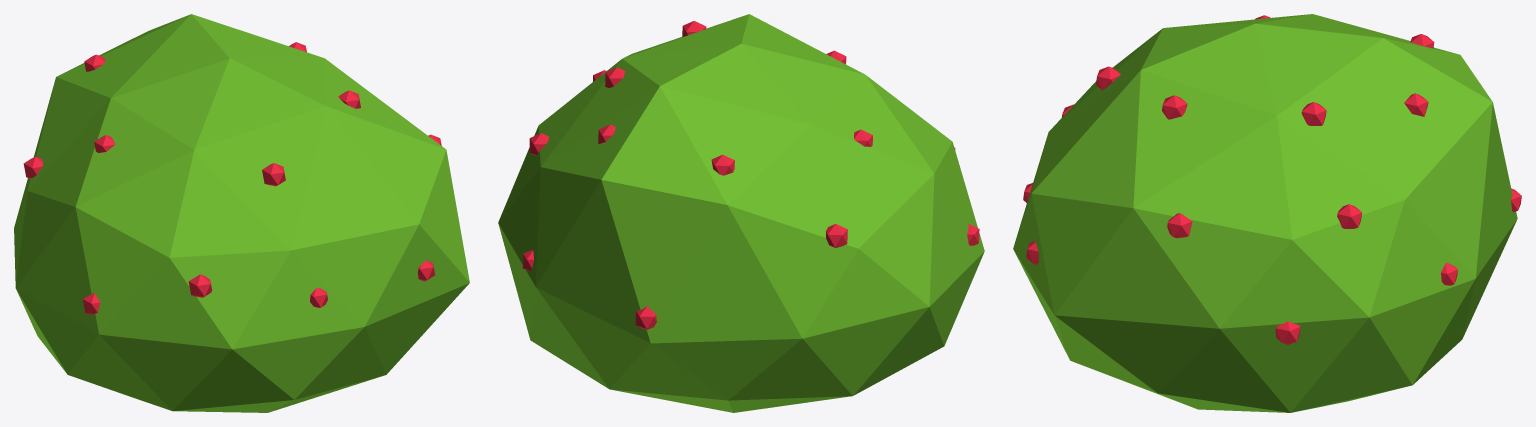
File: Куст№1.fbx
The picture shows the model from 3 angles, left to right: view 1: azimuth 30°, elevation 25°; view 2: azimuth 150°, elevation 25°; view 3: azimuth 270°, elevation 25°; orthographic projection. The views are drawn at different scales.
Visible parts, largest first — view 1: Куст №1; view 2: Куст №1; view 3: Куст №1.
Boxes of the visible parts, bbox=[...] form: Куст №1: bbox=[14, 14, 469, 412]; Куст №1: bbox=[498, 14, 984, 412]; Куст №1: bbox=[1013, 14, 1521, 412].
Size of the model in its own units: 526 by 390 by 534.
